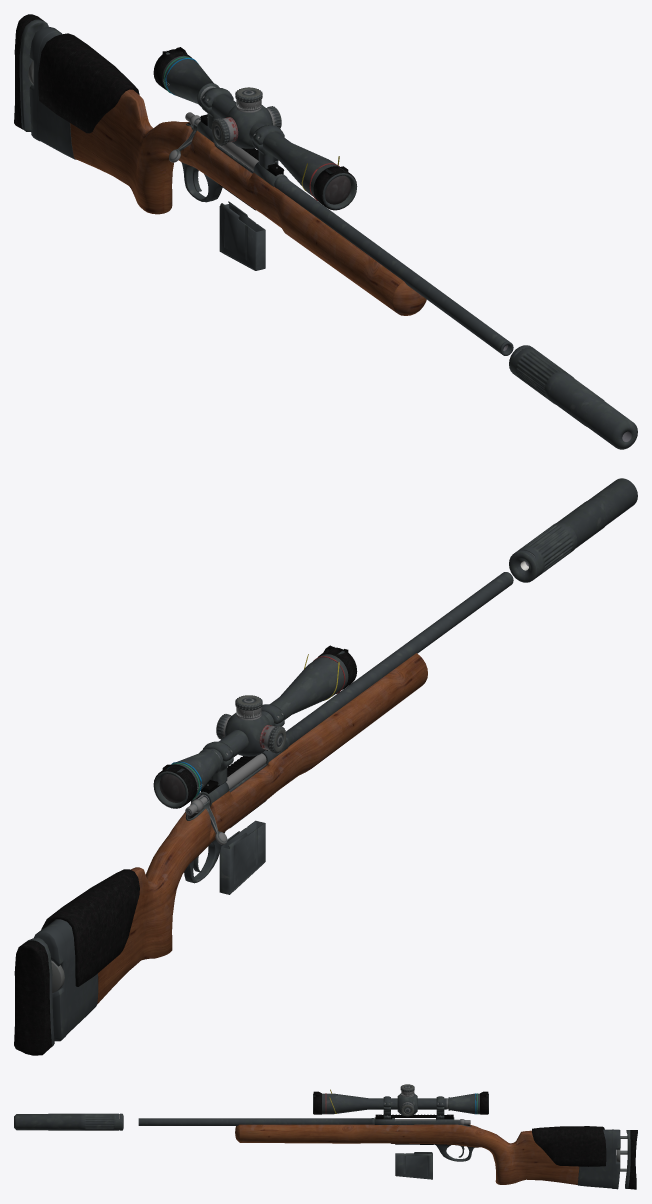
Rendered from m24-konrad.glb.
3 views of the same model, one above another, from view 1: azimuth 30°, elevation 25°; view 2: azimuth 150°, elevation 25°; view 3: azimuth 270°, elevation 25° (orthographic). The views are drawn at different scales.
Parts seen in each view (by area): view 1: M24_LowPoly_high, Supp, Mag; view 2: M24_LowPoly_high, Supp, Mag; view 3: M24_LowPoly_high, Supp, Mag.
Boxes of the visible parts, bbox=[...] form: M24_LowPoly_high: bbox=[14, 14, 513, 355]; Supp: bbox=[509, 345, 637, 449]; Mag: bbox=[219, 201, 265, 270]; M24_LowPoly_high: bbox=[14, 572, 513, 1055]; Supp: bbox=[509, 478, 637, 582]; Mag: bbox=[219, 820, 265, 894]; M24_LowPoly_high: bbox=[138, 1084, 637, 1189]; Supp: bbox=[14, 1113, 123, 1130]; Mag: bbox=[395, 1152, 432, 1179].
Size of the model in its own units: 0.1132 by 0.3574 by 2.
1 material, 1 textured.
